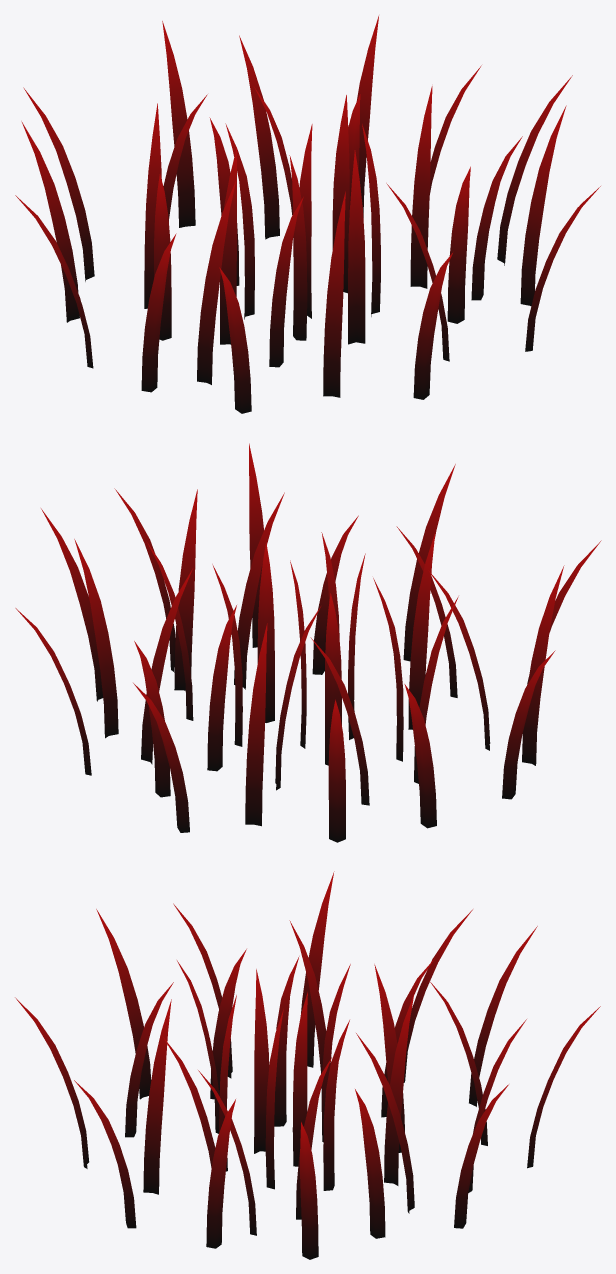
File: Grass.fbx
3 views of the same model, one above another, from view 1: azimuth 30°, elevation 25°; view 2: azimuth 150°, elevation 25°; view 3: azimuth 270°, elevation 25° (orthographic). The views are drawn at different scales.
Visible parts, largest first — view 1: Grass; view 2: Grass; view 3: Grass.
Part boxes in pixels (left/top/right/bottom): Grass: left=15, top=16, right=600, bottom=413; Grass: left=15, top=443, right=601, bottom=842; Grass: left=15, top=871, right=600, bottom=1259.
Bounding box in the file's own units: 3.59 × 1.2 × 3.56.
